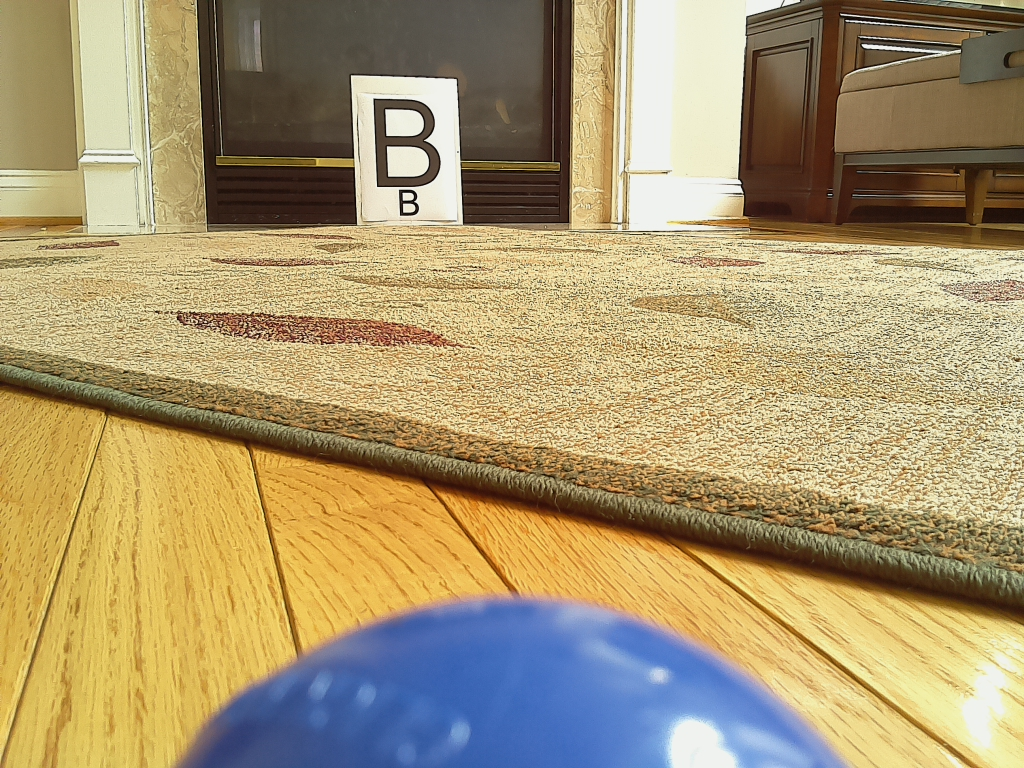letter: (377, 100, 441, 187)
